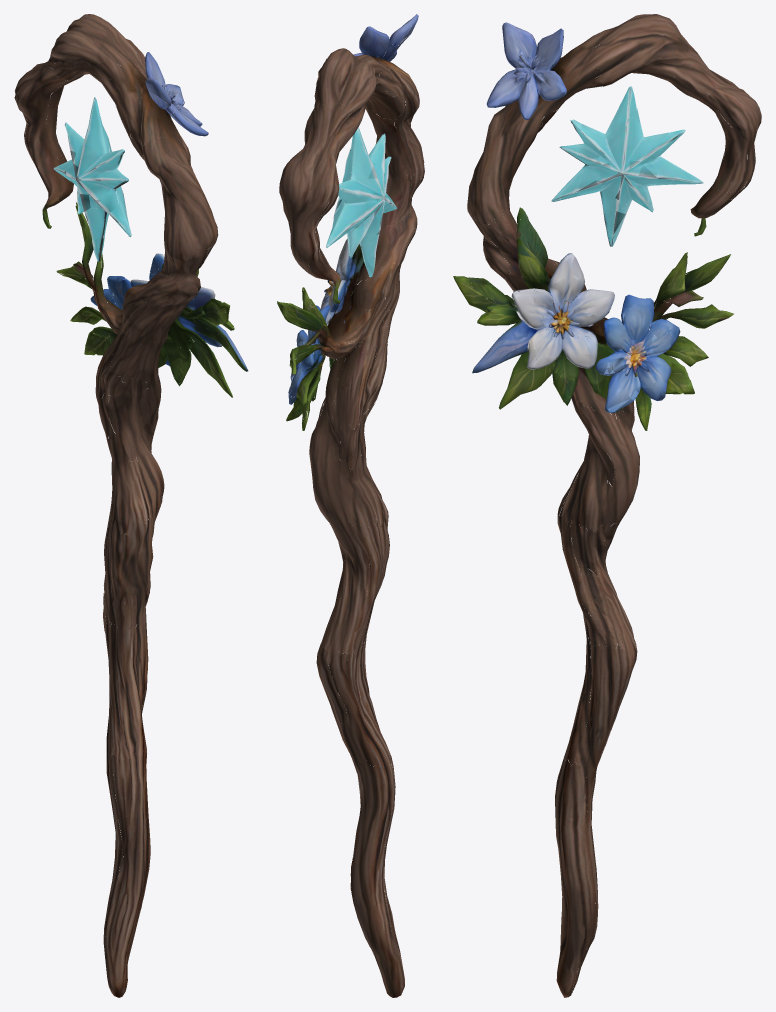
The model's file is MikaCometStaff_L30.glb.
The picture shows the model from 3 angles, left to right: view 1: azimuth 30°, elevation 25°; view 2: azimuth 150°, elevation 25°; view 3: azimuth 270°, elevation 25°; orthographic projection. The views are drawn at different scales.
Parts seen in each view (by area): view 1: Weapon; view 2: Weapon; view 3: Weapon.
Part boxes in pixels (box(x1,y1,x2,y2)): Weapon: box(14, 14, 248, 997); Weapon: box(277, 14, 424, 997); Weapon: box(453, 14, 761, 997).
Size of the model in its own units: 0.1867 by 1.55 by 0.4383.
2 materials, 2 textured.
